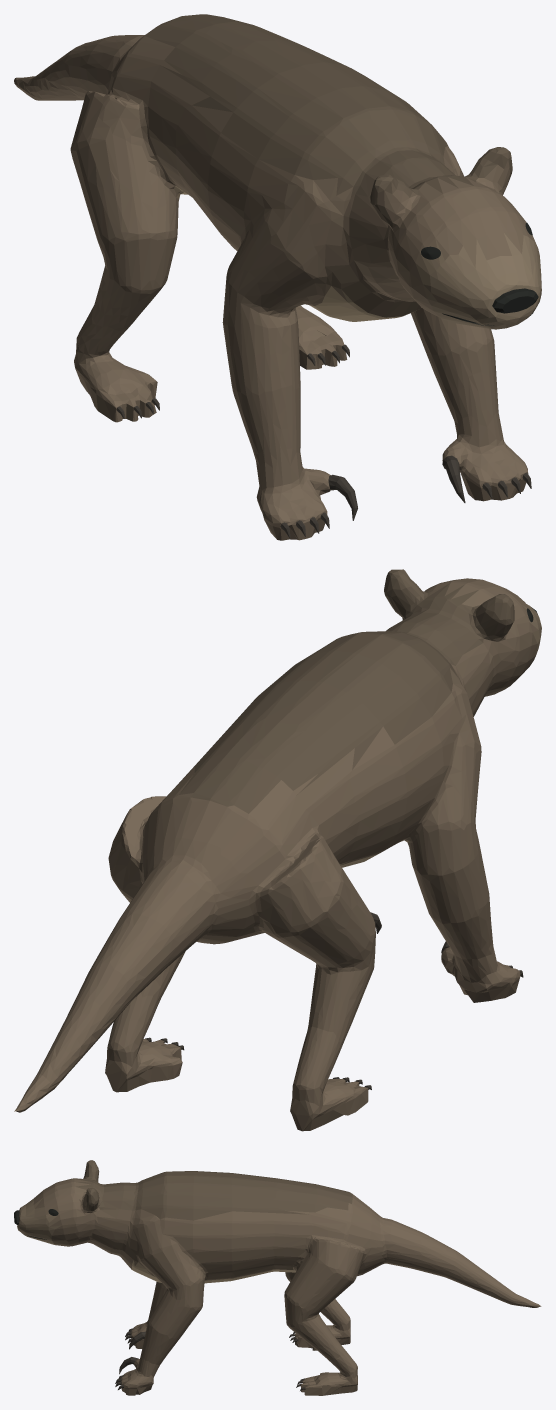
The picture shows the model from 3 angles, top to bottom: view 1: azimuth 30°, elevation 25°; view 2: azimuth 150°, elevation 25°; view 3: azimuth 270°, elevation 25°; orthographic projection. The views are drawn at different scales.
Parts seen in each view (by area): view 1: Continuous_anatomical_skin, Broad_nasal_pad; view 2: Continuous_anatomical_skin; view 3: Continuous_anatomical_skin.
Part boxes in pixels (x1,y1,x2,y2): Continuous_anatomical_skin: (14, 14, 541, 540); Broad_nasal_pad: (492, 288, 538, 313); Continuous_anatomical_skin: (14, 569, 541, 1131); Continuous_anatomical_skin: (17, 1160, 541, 1395).
Bounding box in the file's own units: 0.5223 × 0.7528 × 1.88.
